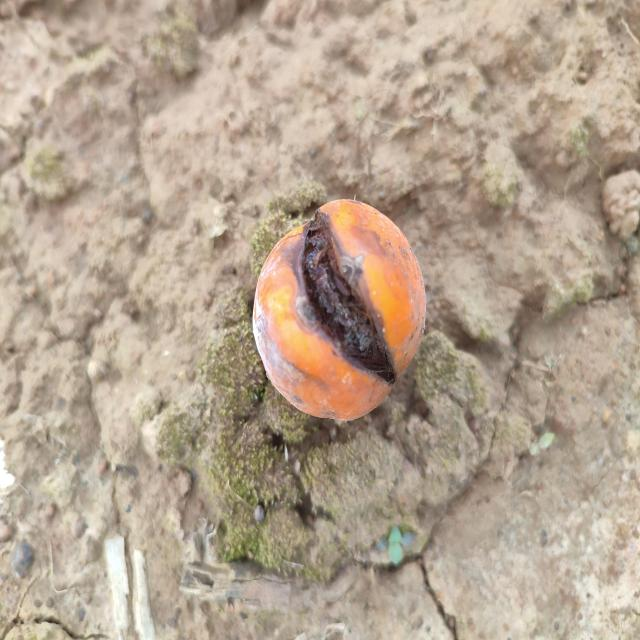damaged: (251, 200, 428, 424)
